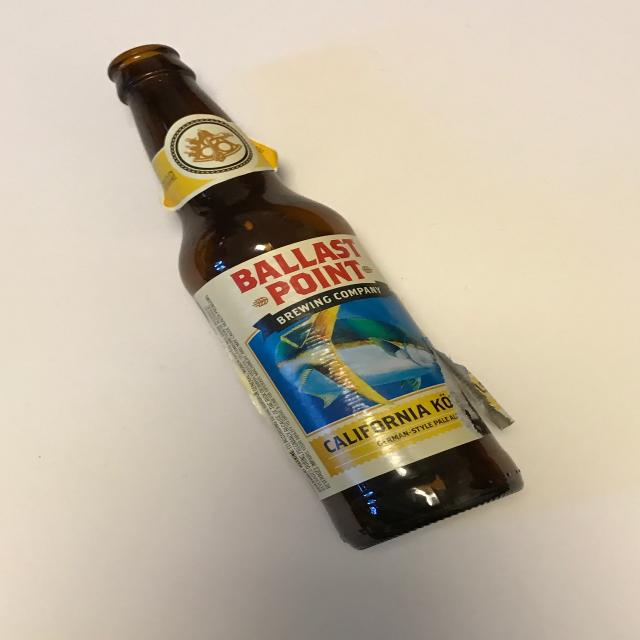glass: (106, 43, 525, 550)
